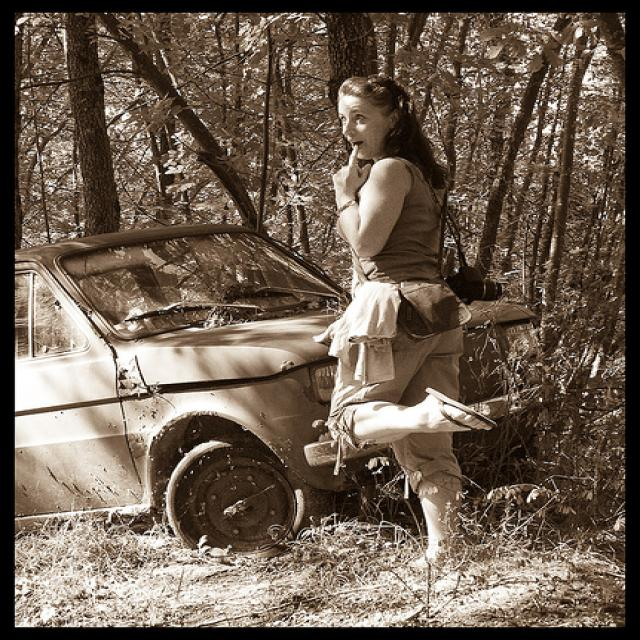light_vehicle: (12, 223, 545, 558)
